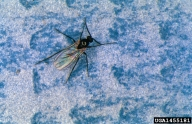Fruit fly: (45, 20, 107, 75)
